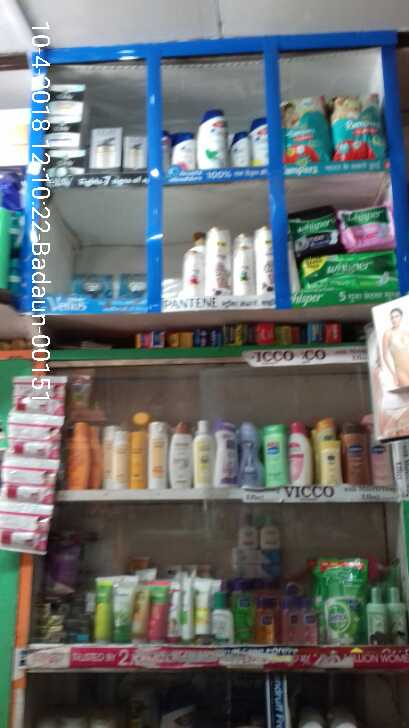venus: (73, 277, 114, 304), (114, 272, 148, 304)
